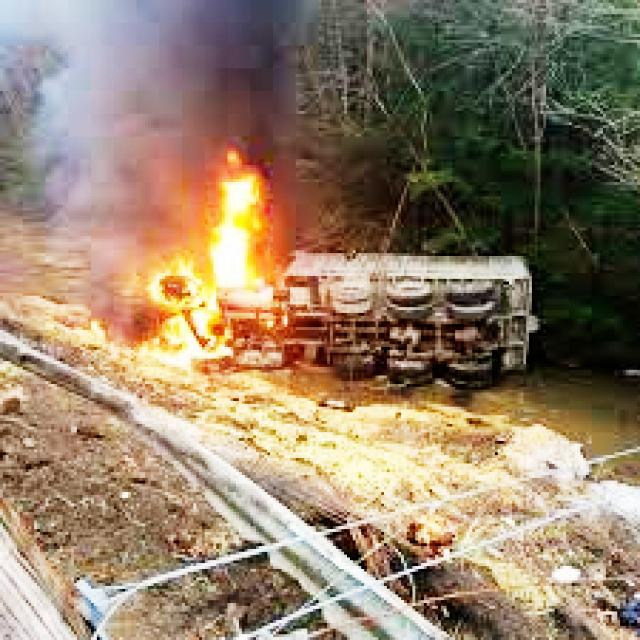api: (126, 146, 311, 377)
